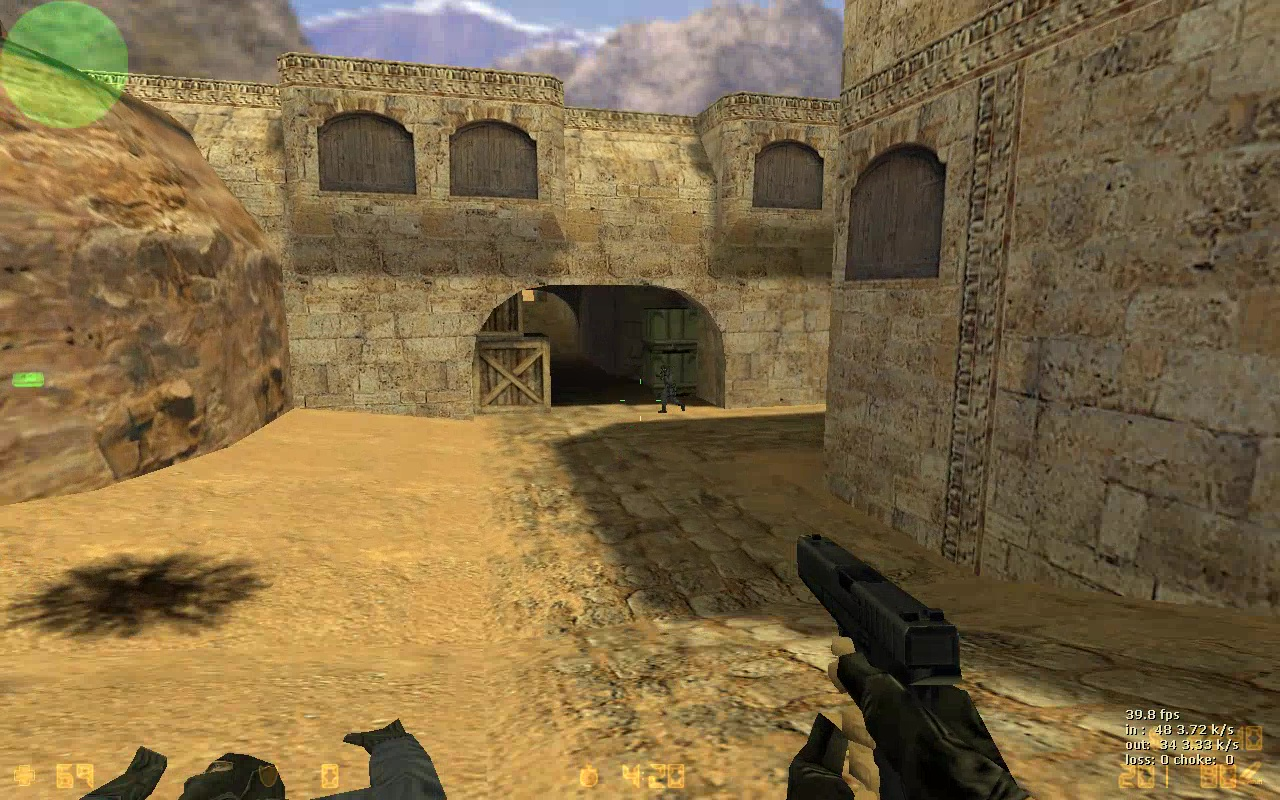ct: (651, 362, 690, 410)
